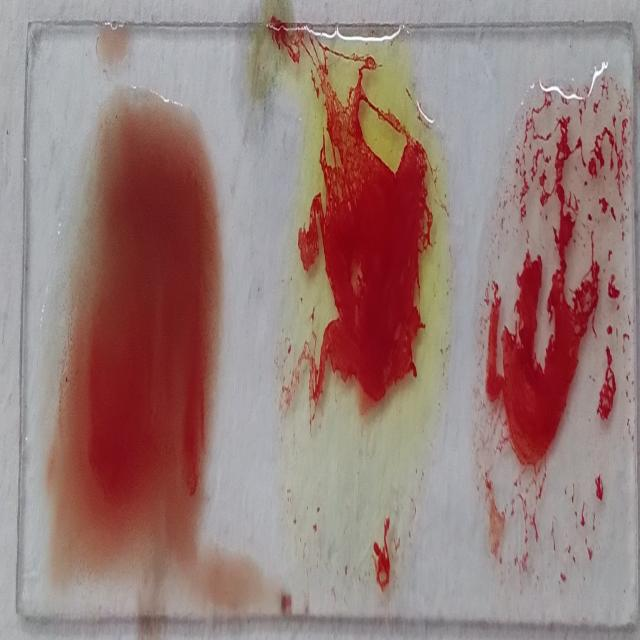B: (291, 32, 444, 592)
D: (493, 71, 631, 633)
